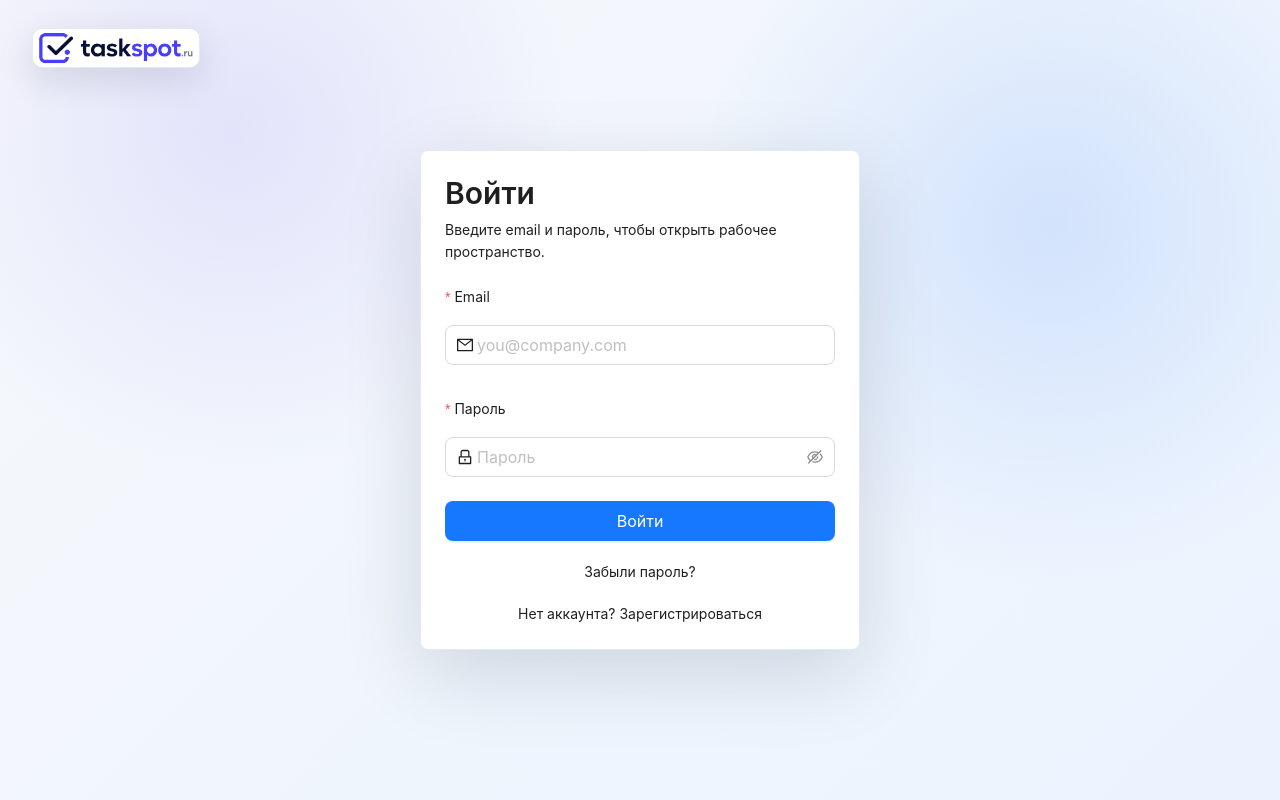
Scenario: admin login waits for an email code instead of navigating after password
In the field labelled "Email": point(650, 345) [477, 333, 823, 357], type "admin@example.test"
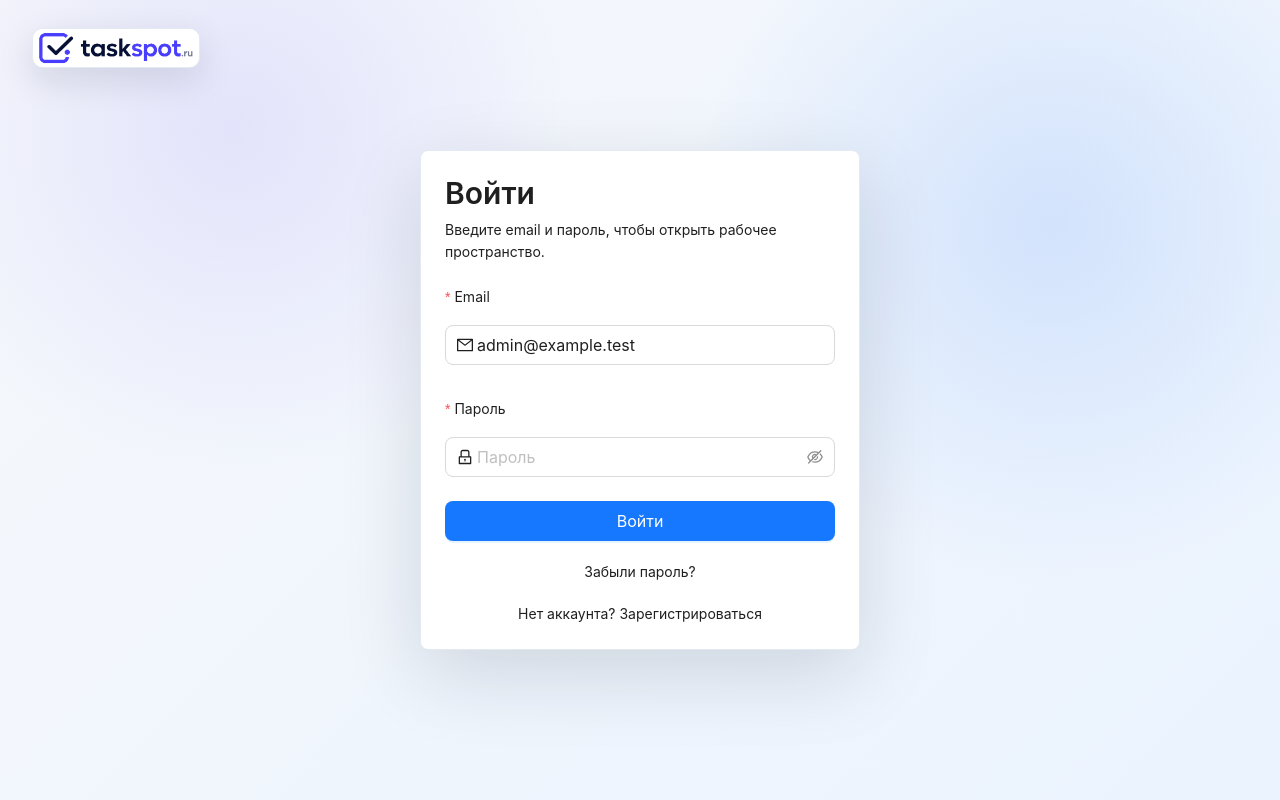
In the password field labelled "Пароль": point(640, 457) [477, 445, 803, 469], type "Strong-admin-123!"
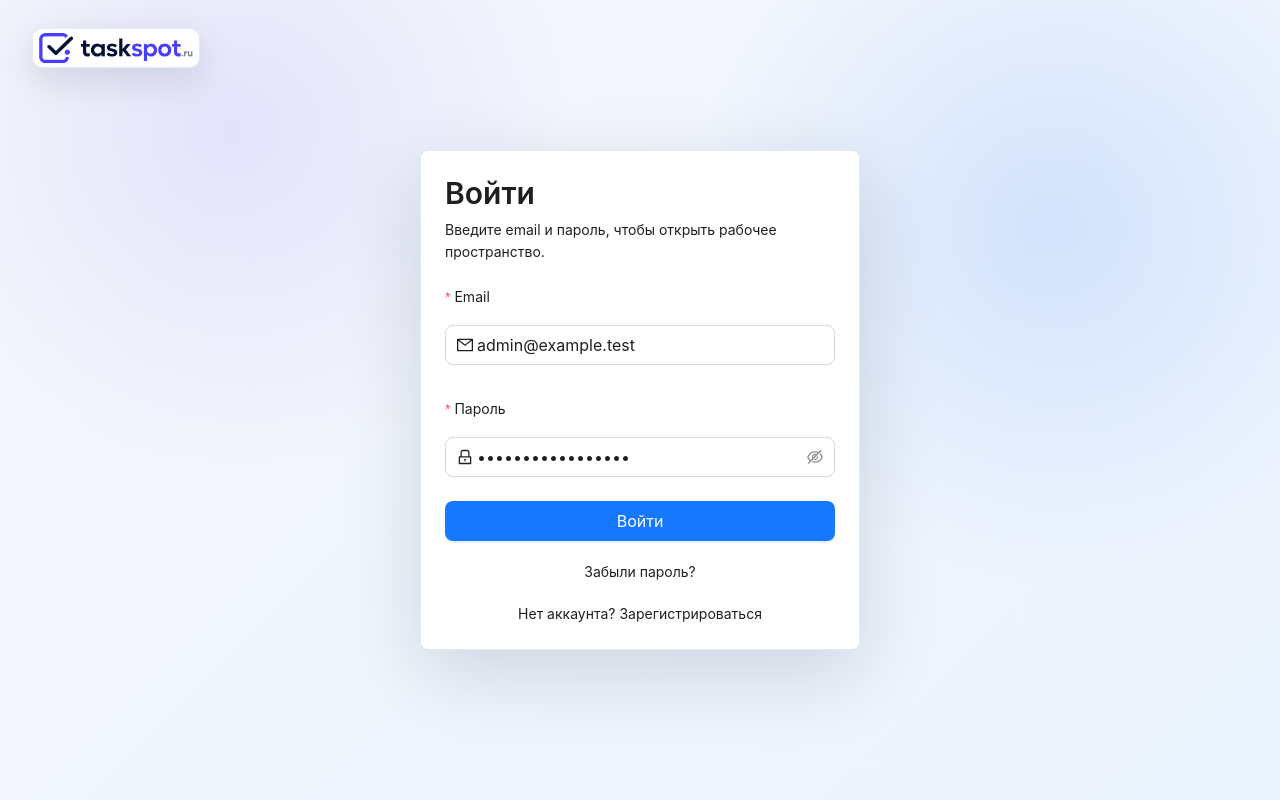
Click the button "Войти": point(640, 521) [445, 501, 835, 541]
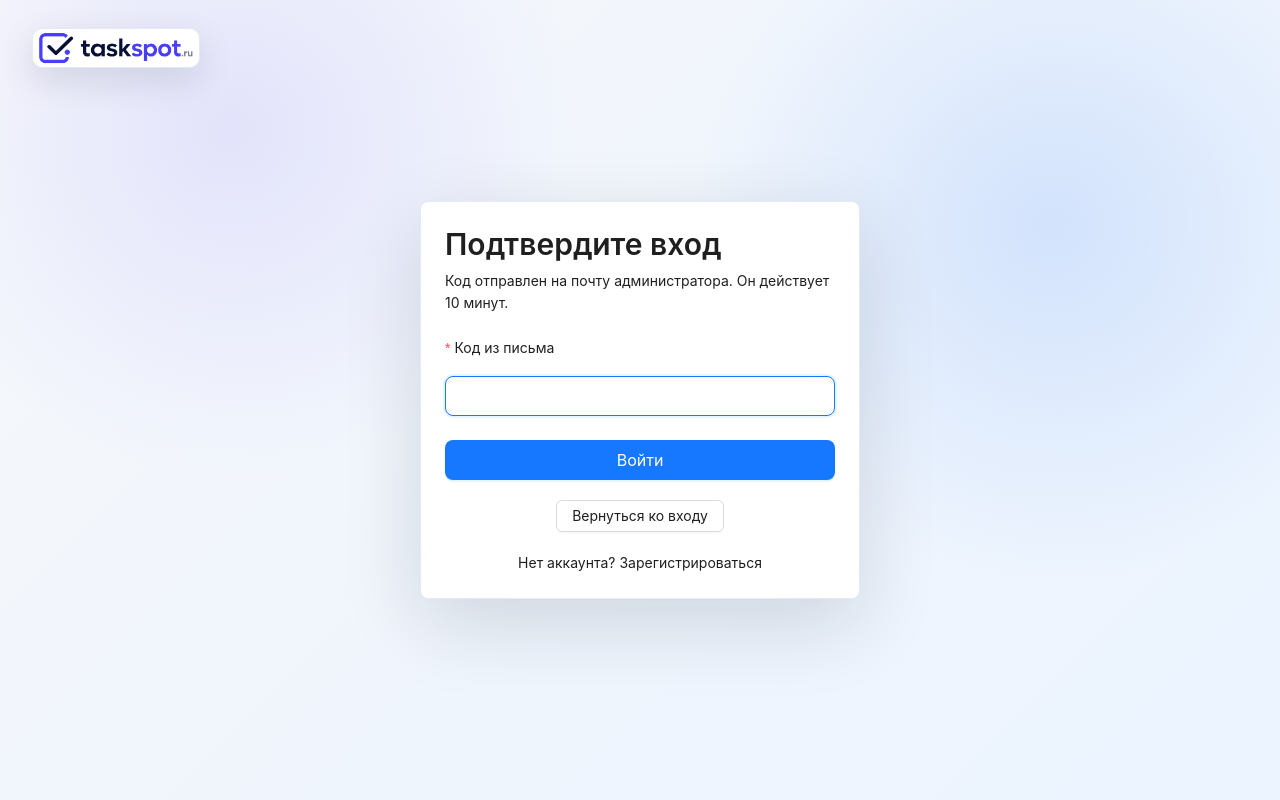
Check: the field labelled "Код из письма" is shown
In the field labelled "Код из письма": point(640, 396) [445, 376, 835, 416], type "123456"
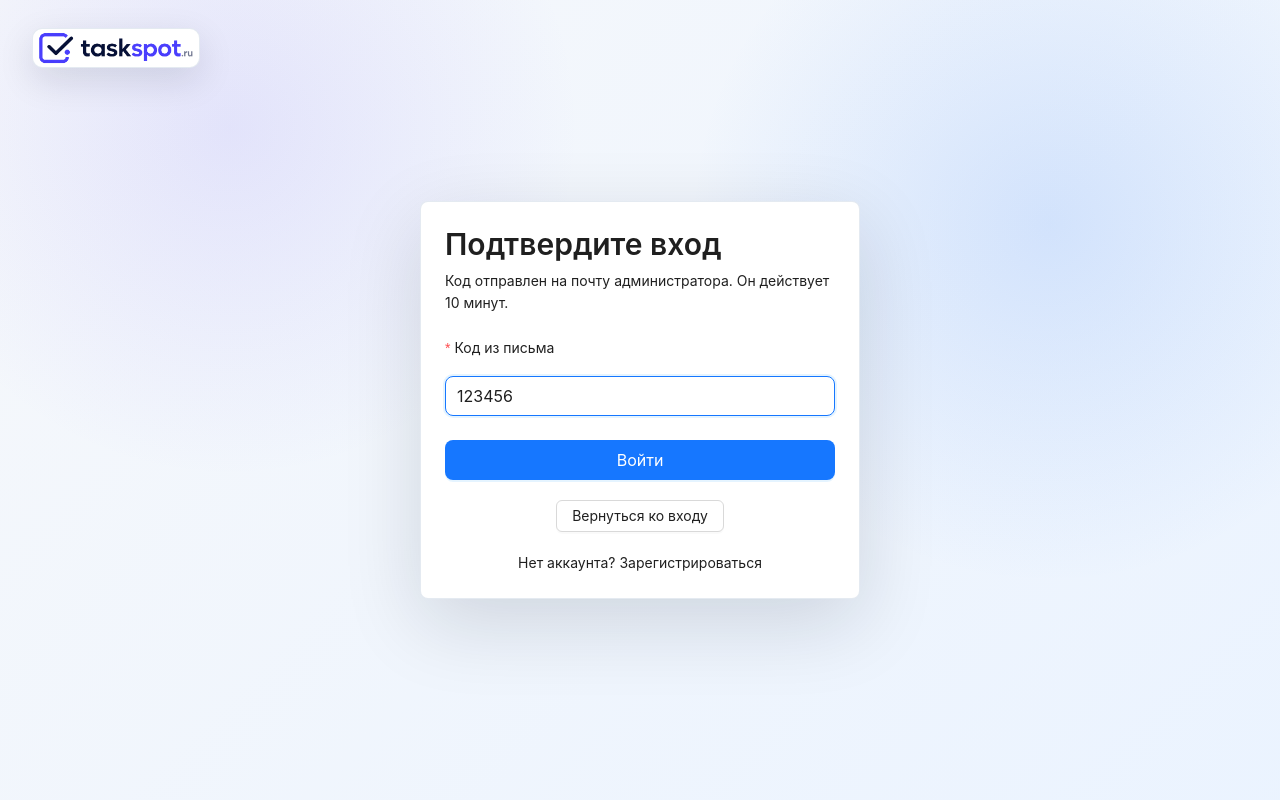
Click the button "Войти": point(640, 460) [445, 440, 835, 480]
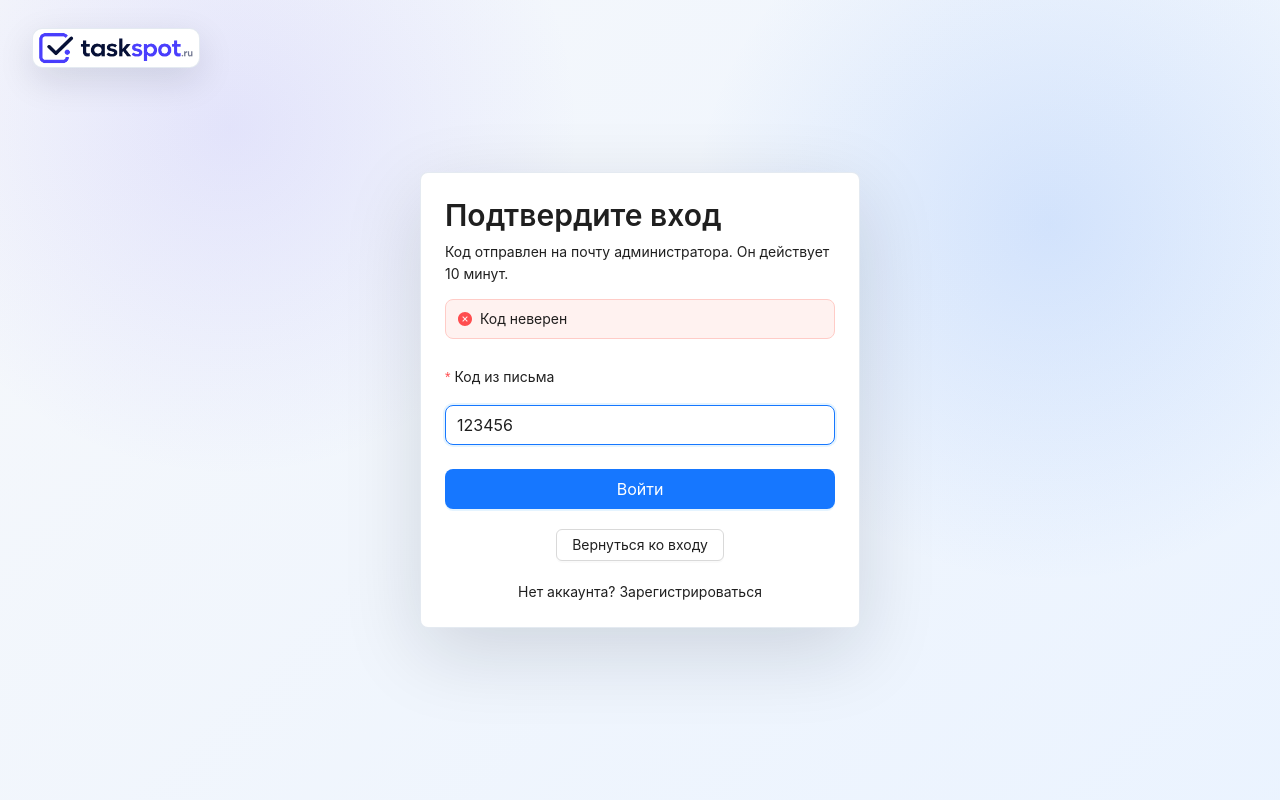
Check: the text "Код неверен" is shown, box [480, 310, 567, 327]
